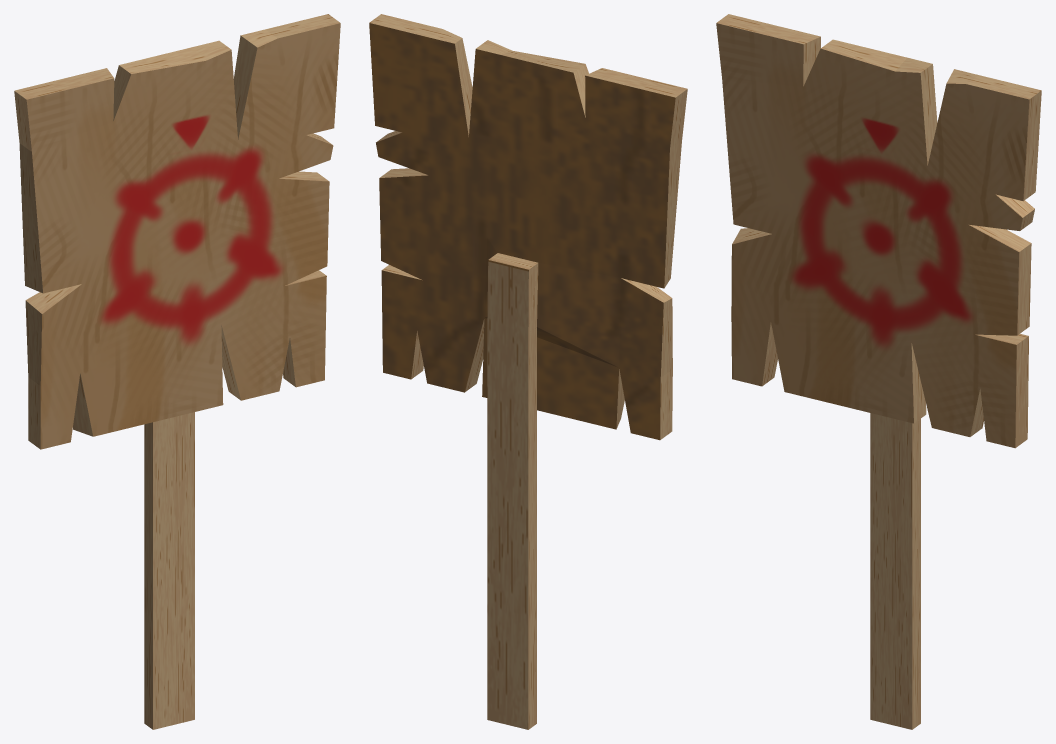
The model's file is Placa_Alvo.fbx.
The picture shows the model from 3 angles, left to right: view 1: azimuth 30°, elevation 25°; view 2: azimuth 150°, elevation 25°; view 3: azimuth 330°, elevation 25°; orthographic projection. The views are drawn at different scales.
Visible parts, largest first — view 1: Placa_Alvo; view 2: Placa_Alvo; view 3: Placa_Alvo.
Boxes of the visible parts, x1,y1,x2,y2 form: Placa_Alvo: (14,14,340,729); Placa_Alvo: (369,14,687,729); Placa_Alvo: (716,14,1041,729).
Size of the model in its own units: 1540 by 3161 by 194.
1 material, 1 textured.
